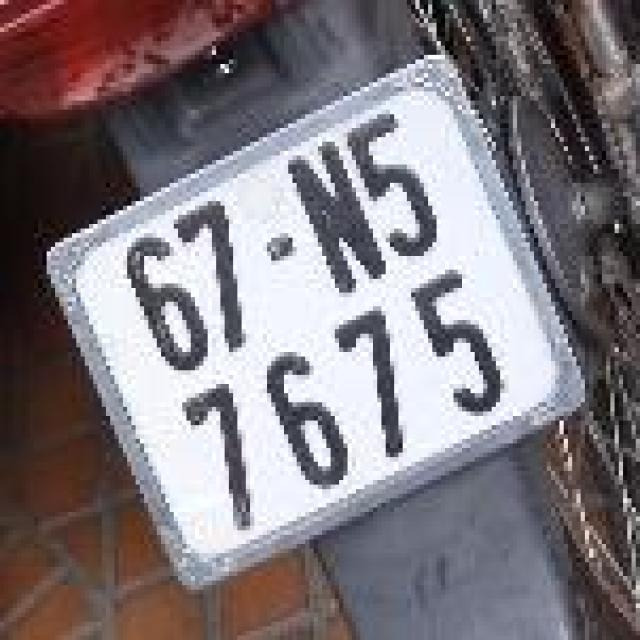5: (397, 257, 527, 434), (335, 100, 459, 272)
6: (238, 329, 367, 505), (107, 221, 225, 393)
7: (316, 288, 431, 479), (165, 185, 279, 366), (174, 370, 285, 546)
N: (274, 126, 404, 313)
